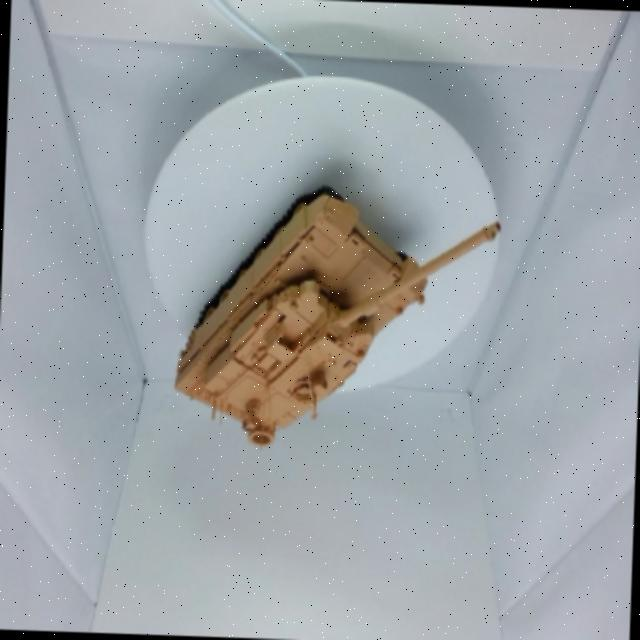korea tank: (150, 154, 528, 477)
